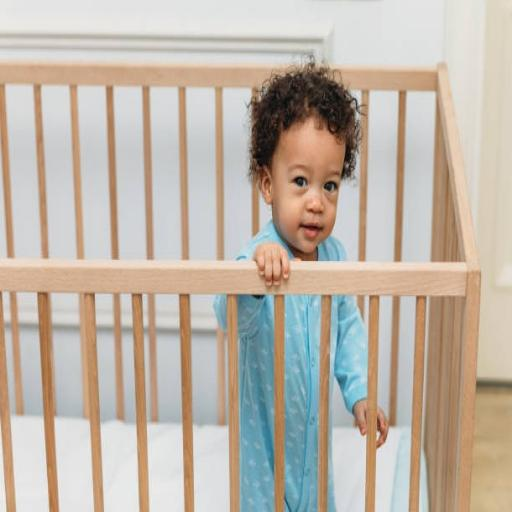baby: (237, 62, 360, 285)
crib: (0, 62, 480, 510)
